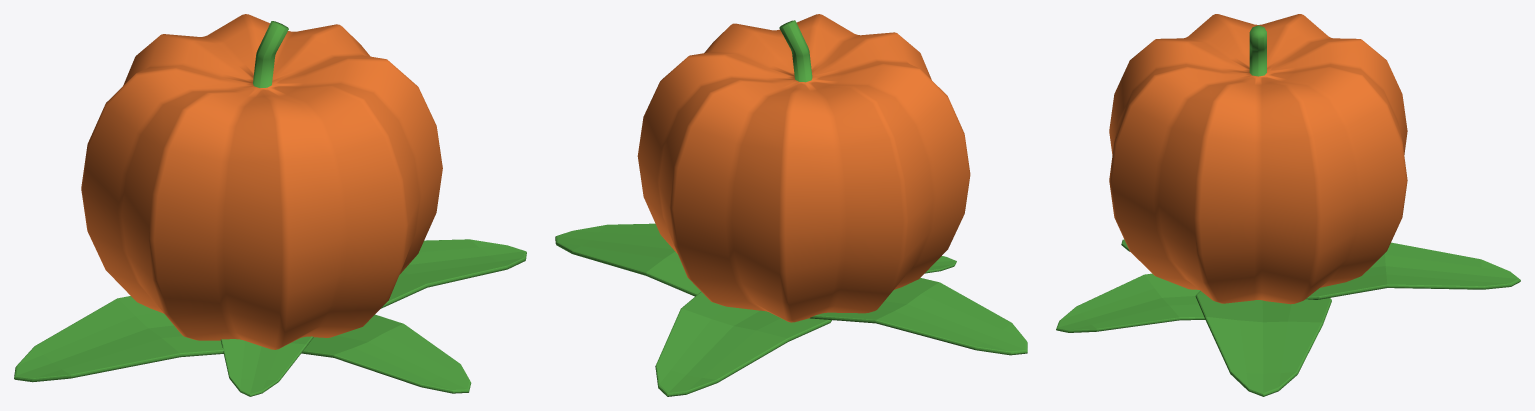
Rendered from Pumpkin.fbx.
3 renders of one model, left to right at view 1: azimuth 30°, elevation 25°; view 2: azimuth 150°, elevation 25°; view 3: azimuth 270°, elevation 25°, orthographic. The views are drawn at different scales.
Parts seen in each view (by area): view 1: Circle.006; view 2: Circle.006; view 3: Circle.006.
Boxes of the visible parts, left/top/right/bottom form: Circle.006: left=14, top=14, right=526, bottom=396; Circle.006: left=555, top=14, right=1027, bottom=396; Circle.006: left=1056, top=14, right=1520, bottom=396.
Size of the model in its own units: 323 by 184 by 287.
